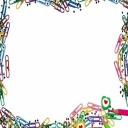Metal: (67, 98, 88, 119), (109, 31, 125, 53)
